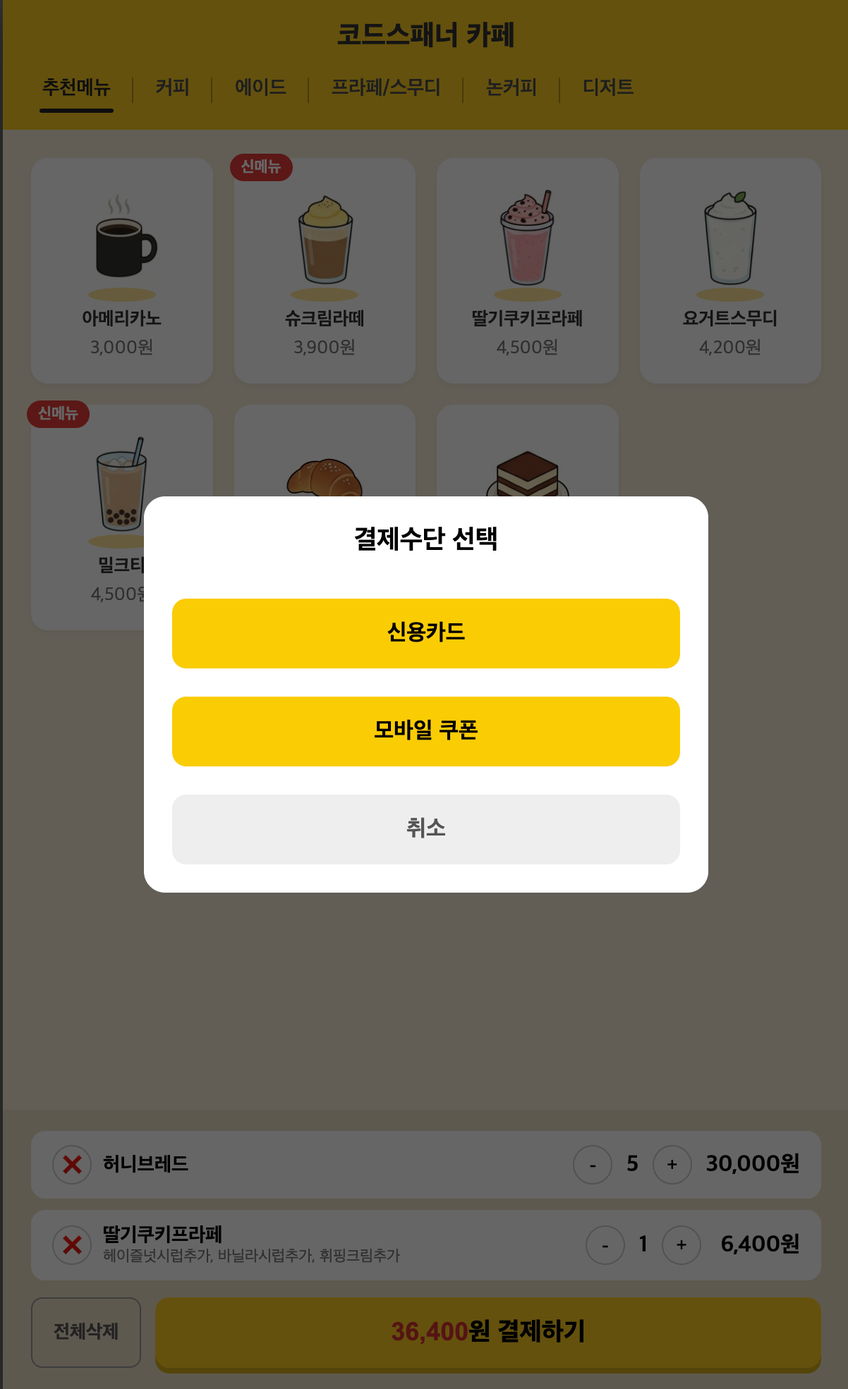option_button: (172, 794, 681, 864), (172, 697, 680, 767), (171, 599, 679, 669)
popup_modal: (144, 496, 709, 893)
